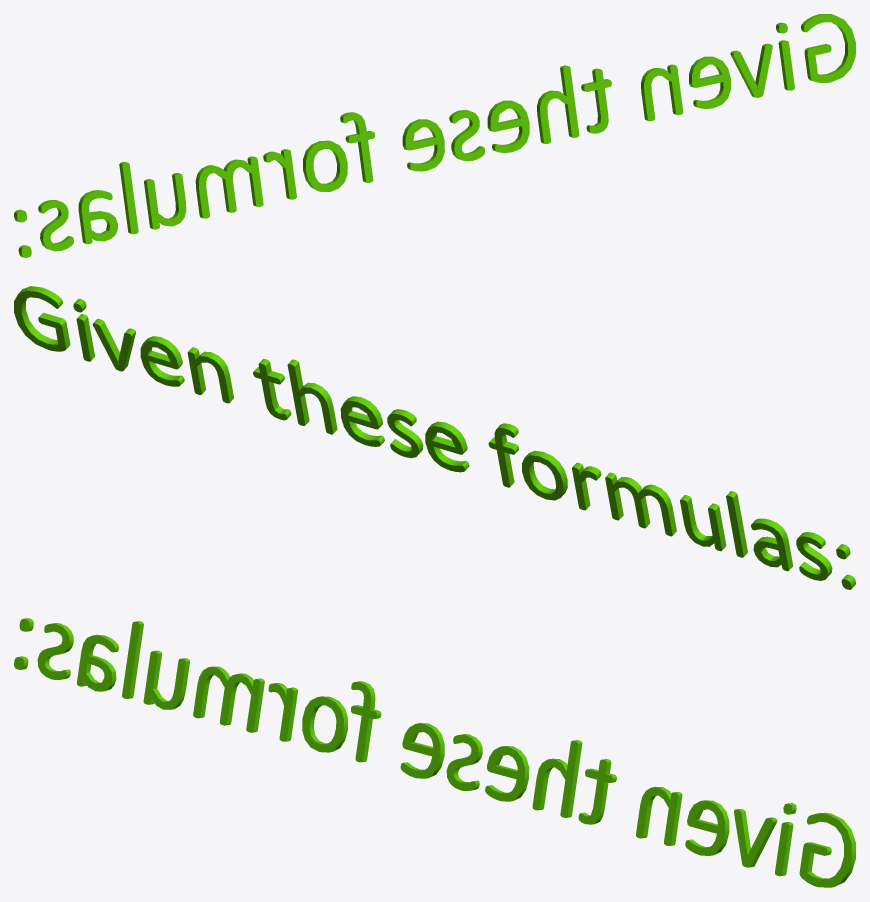
The model's file is bgiven.fbx.
3 views of the same model, one above another, from view 1: azimuth 30°, elevation 25°; view 2: azimuth 150°, elevation 25°; view 3: azimuth 330°, elevation 25° (orthographic). The views are drawn at different scales.
Parts seen in each view (by area): view 1: bgiven; view 2: bgiven; view 3: bgiven.
Boxes of the visible parts, x1,y1,x2,y2 form: bgiven: (14, 14, 855, 257); bgiven: (14, 286, 855, 589); bgiven: (14, 618, 855, 887).
Size of the model in its own units: 54.28 by 4.7 by 4.89.
